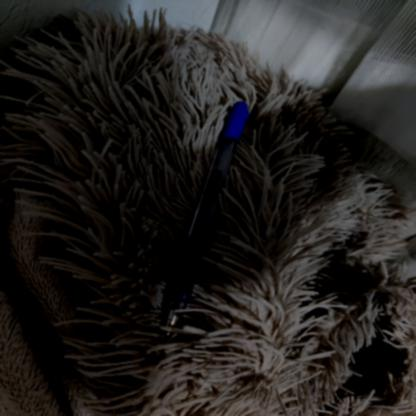Pen: (113, 102, 322, 353)
